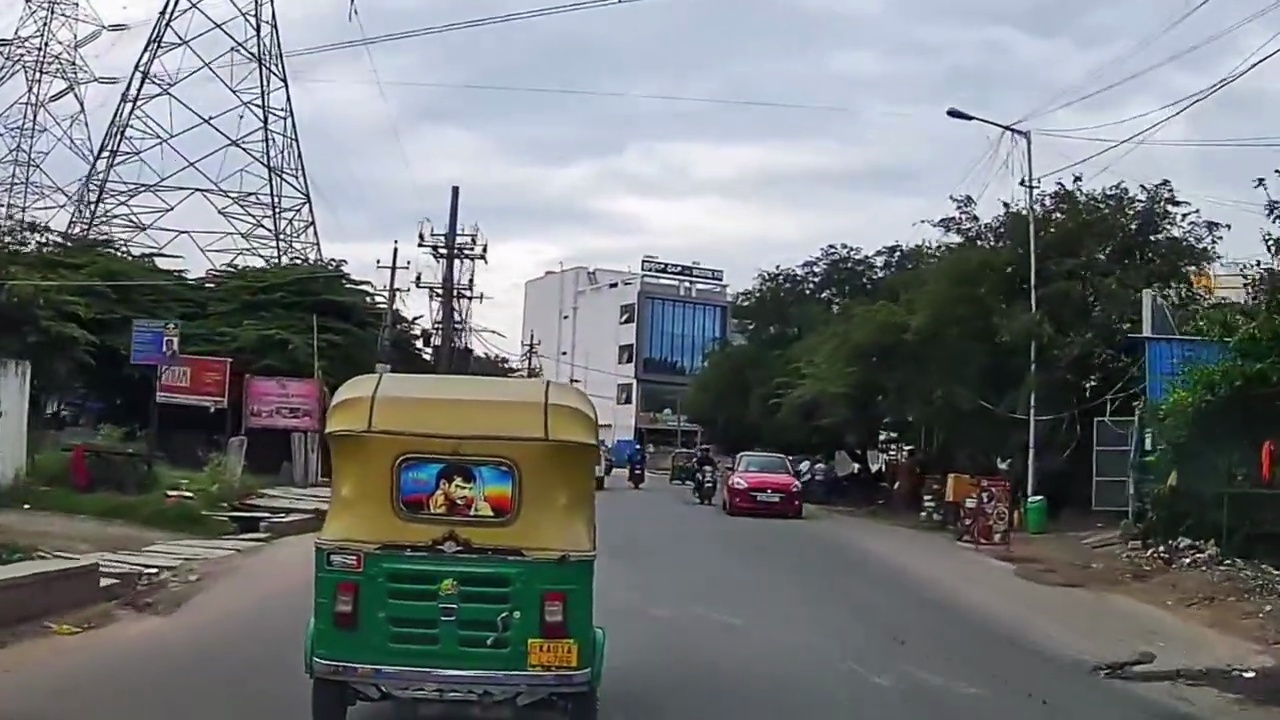garbage: (1158, 533, 1278, 636)
